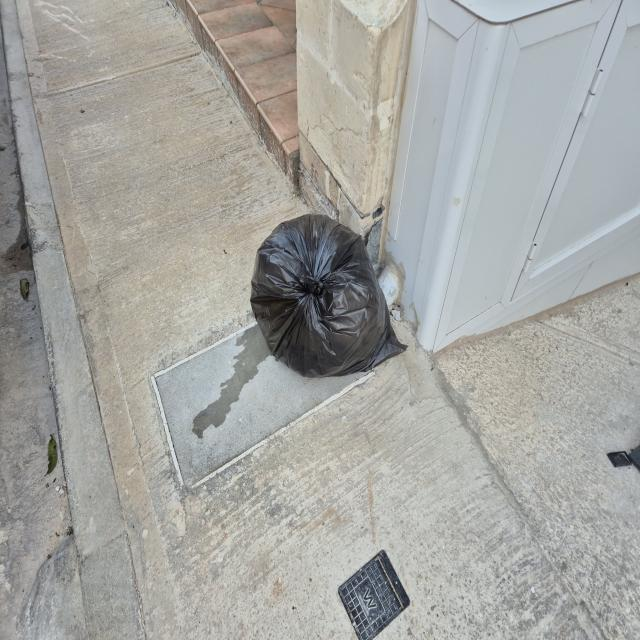black_bag: (245, 198, 411, 388)
